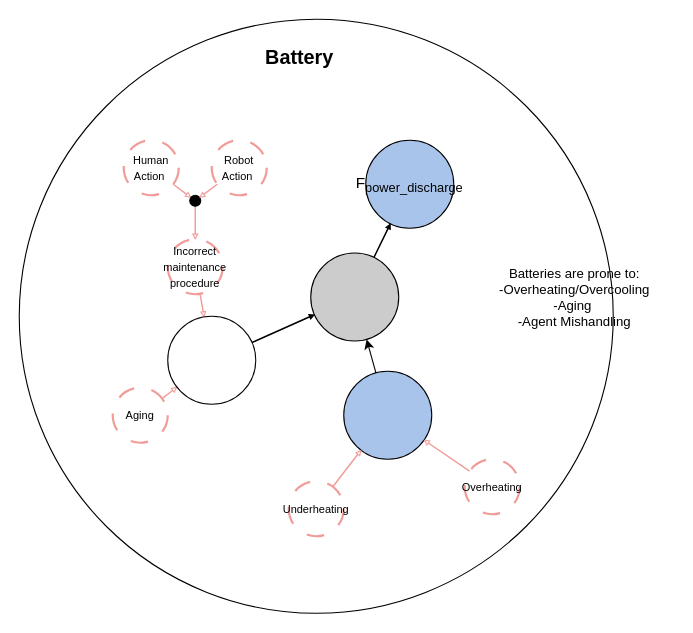
The diagram is 693 pixels wide and 633 high, and some of its shapes have lost their labels. Each missing label, with the centre of its shape:
"F PhotoValtic_Thermal_Control_System" belongs at point 387,414.
"H battery" belongs at point 354,296.
"V damage" belongs at point 211,359.
